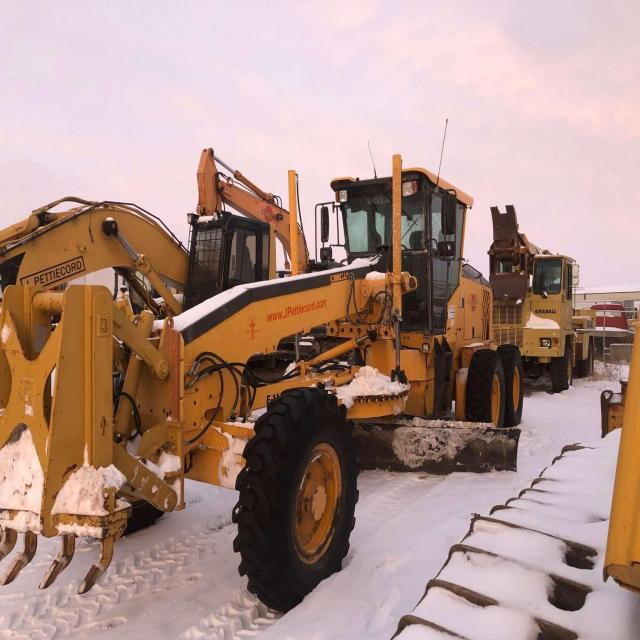buldozerpayloadergrader: (8, 159, 542, 620)
